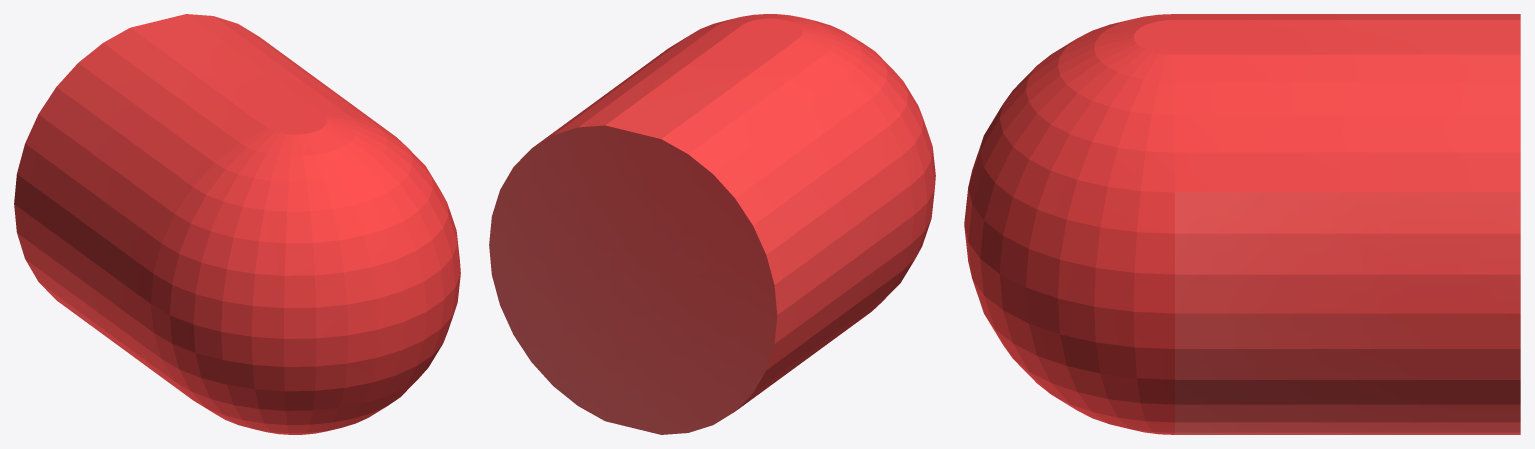
Rendered from LED.obj.
The picture shows the model from 3 angles, left to right: view 1: azimuth 30°, elevation 25°; view 2: azimuth 150°, elevation 25°; view 3: azimuth 270°, elevation 25°; orthographic projection. The views are drawn at different scales.
Bounding box in the file's own units: 0.0192 × 0.0188 × 0.0253.
